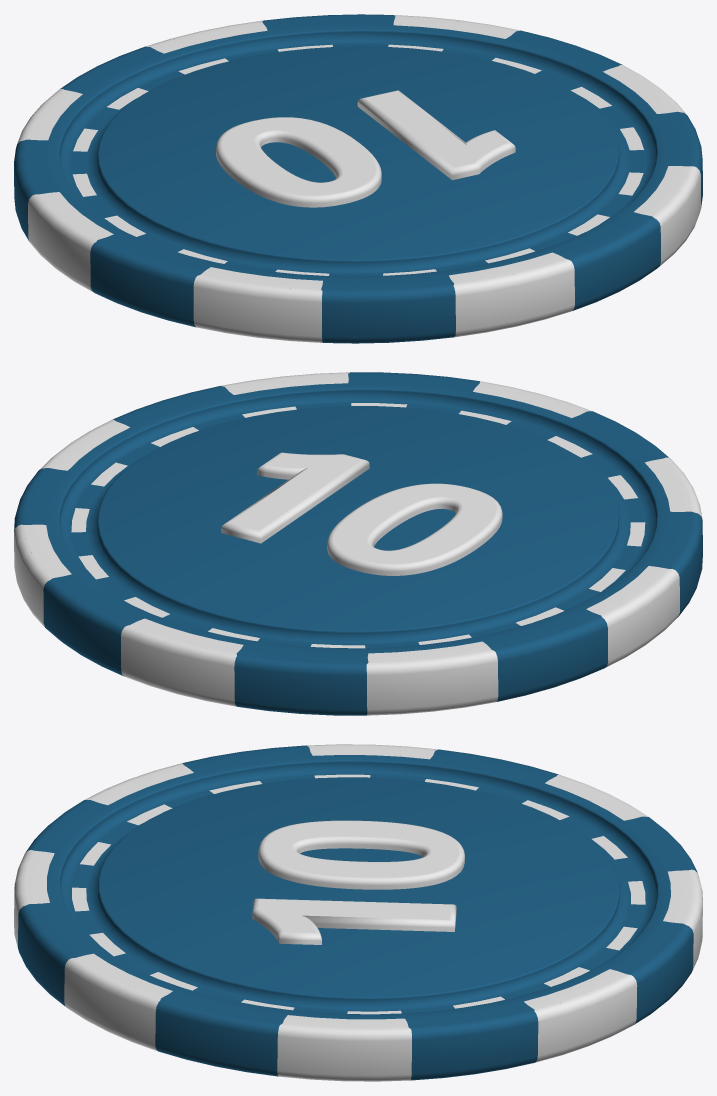
3 views of the same model, one above another, from view 1: azimuth 30°, elevation 25°; view 2: azimuth 150°, elevation 25°; view 3: azimuth 270°, elevation 25° (orthographic).
Visible parts, largest first — view 1: Mesh_3002_2, Mesh_3002_3, Mesh_3002; view 2: Mesh_3002_2, Mesh_3002_3, Mesh_3002; view 3: Mesh_3002_2, Mesh_3002_3, Mesh_3002.
Boxes of the visible parts, x1,y1,x2,y2 form: Mesh_3002_2: [14, 14, 702, 343]; Mesh_3002_3: [17, 15, 700, 342]; Mesh_3002: [216, 90, 515, 207]; Mesh_3002_2: [14, 372, 702, 715]; Mesh_3002_3: [14, 372, 702, 715]; Mesh_3002: [221, 452, 502, 575]; Mesh_3002_2: [18, 745, 697, 1080]; Mesh_3002_3: [14, 744, 702, 1081]; Mesh_3002: [252, 820, 464, 944].
Bounding box in the file's own units: 0.0802 × 0.00942 × 0.0802.
